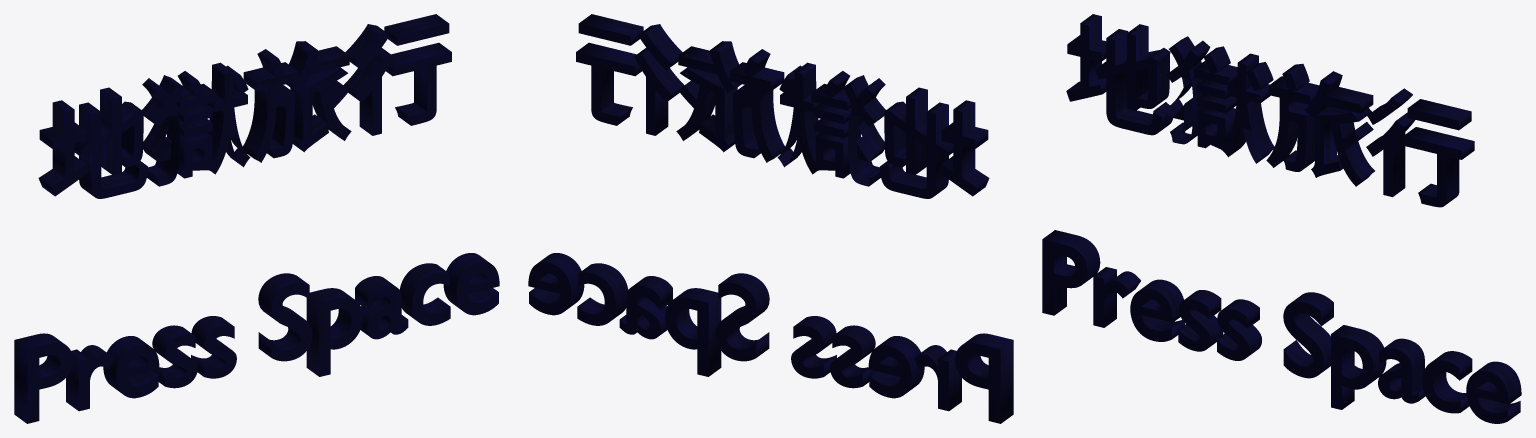
Rendered from Title.obj.
The picture shows the model from 3 angles, left to right: view 1: azimuth 30°, elevation 25°; view 2: azimuth 150°, elevation 25°; view 3: azimuth 330°, elevation 25°; orthographic projection.
Parts seen in each view (by area): view 1: テキスト; view 2: テキスト; view 3: テキスト.
Part boxes in pixels (x1,y1,x2,y2): テキスト: (14,14,499,423); テキスト: (528,14,1013,423); テキスト: (1042,14,1521,423).
Size of the model in its own units: 4.65 by 3.09 by 0.22.
1 material, 1 textured.
